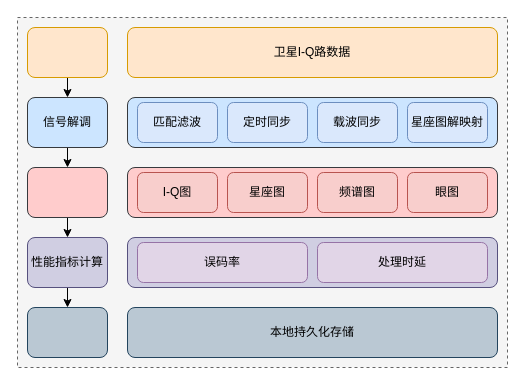
The diagram is 525 pixels wide and 385 high, and some of its shapes have lost their labels. The centre of each missing label's shape, as x and y in pixels:
"持久化存储" belongs at point 67,332.
"数据采集" belongs at point 67,52.
"解调结果 图表可视化" belongs at point 67,192.
